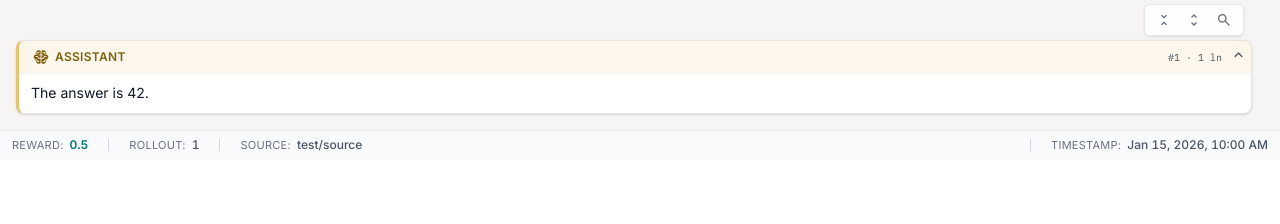
Test: ChatView local search corpus › does NOT match ChatML marker tokens the renderer strips
The width and height of the screenshot is (1280, 224).
Click the button named "Search chat" at [1224, 20], box [1211, 7, 1237, 33]
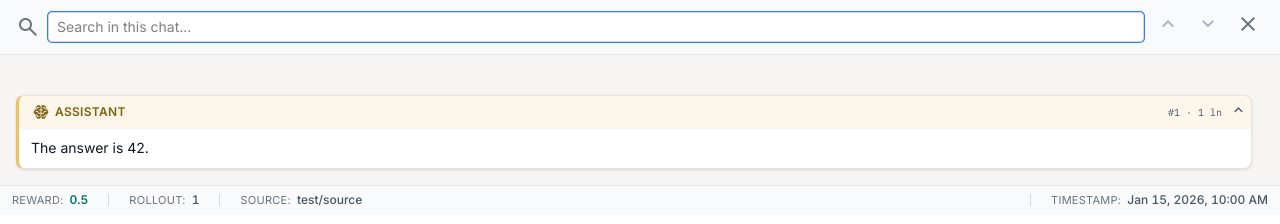
Type "im_assistant" into the field with placeholder "Search in this chat..." at [596, 27], box [48, 12, 1144, 42]
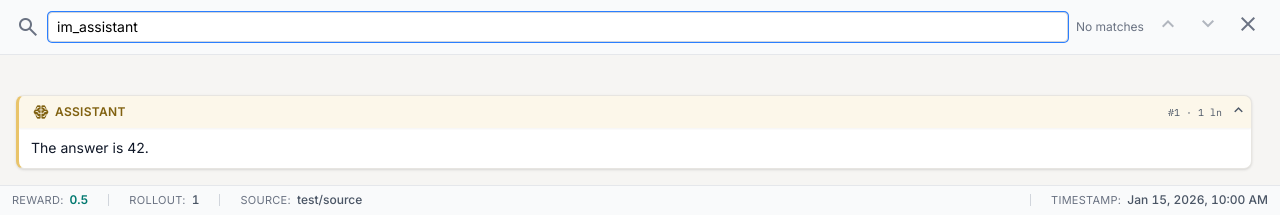
Check: the text "No matches" is shown, box [1076, 19, 1144, 35]
